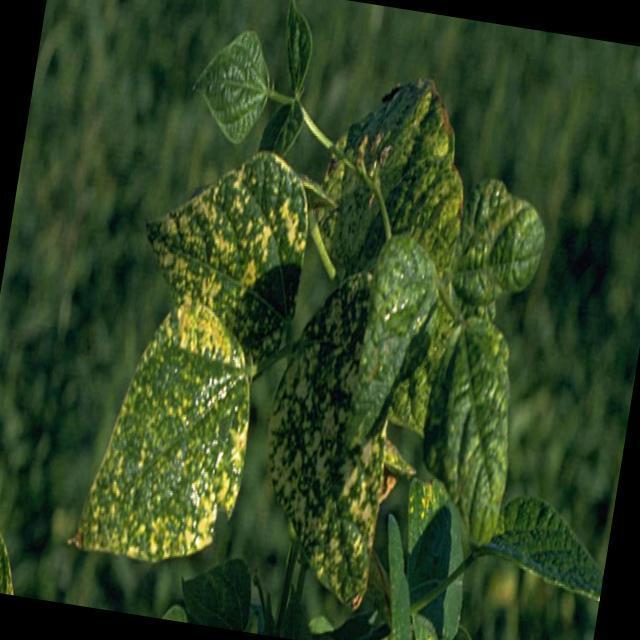Mosaic Virus: (262, 234, 442, 568), (74, 314, 258, 564), (409, 292, 532, 542), (156, 148, 312, 335), (314, 84, 474, 264)
